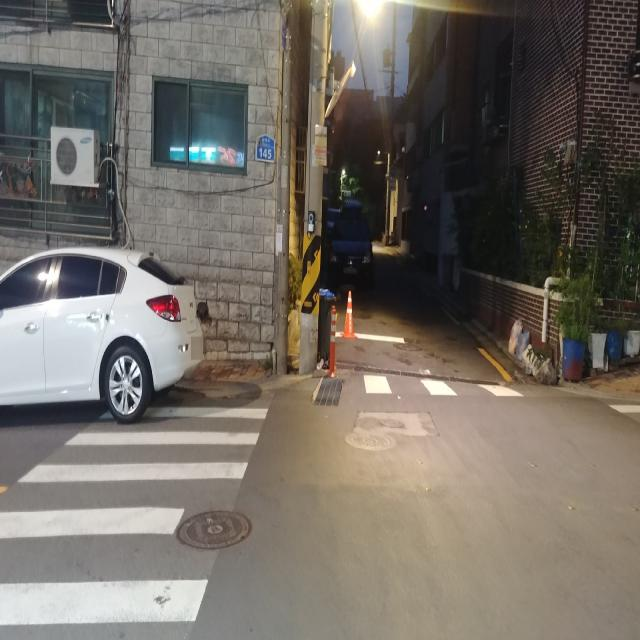횡단보도: (0, 406, 268, 626), (359, 370, 525, 418)
